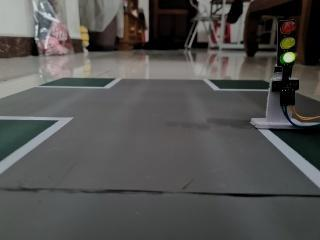green: (274, 8, 303, 85)
